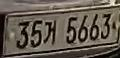3: (15, 21, 30, 49), (101, 12, 111, 40)
5: (31, 19, 43, 49), (65, 16, 77, 46)
6: (78, 14, 89, 43), (89, 13, 100, 41)
거: (43, 20, 57, 47)
